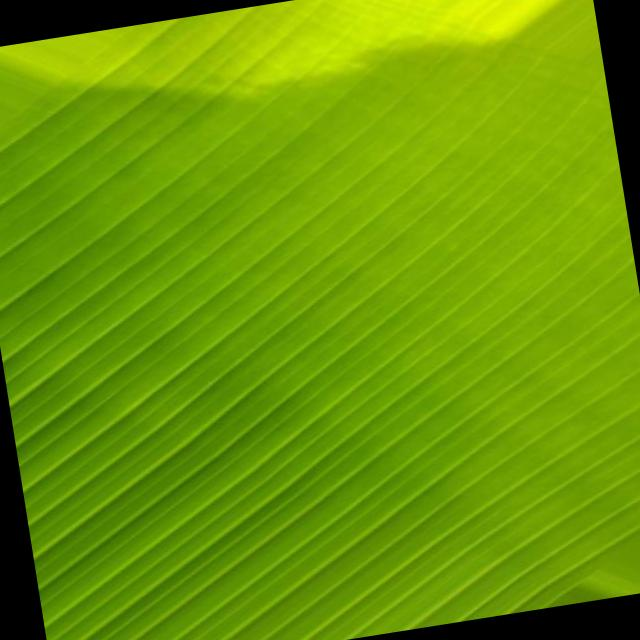Banana_Healthy: (90, 47, 592, 568)
